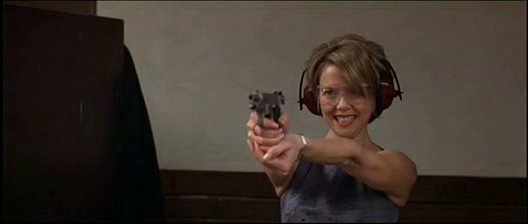face: (320, 73, 370, 138)
mcu: (1, 1, 528, 224)
person: (246, 34, 417, 222)
